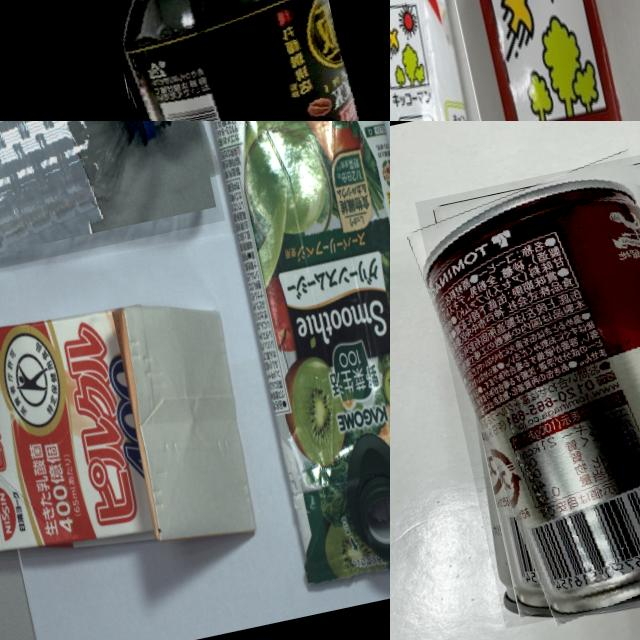Aluminium Foil: (177, 121, 390, 595), (0, 268, 268, 599), (451, 0, 640, 121), (390, 0, 546, 121)
Can: (414, 145, 640, 628), (70, 0, 384, 121)
Transparent Plastic Bottle: (0, 121, 225, 303)
